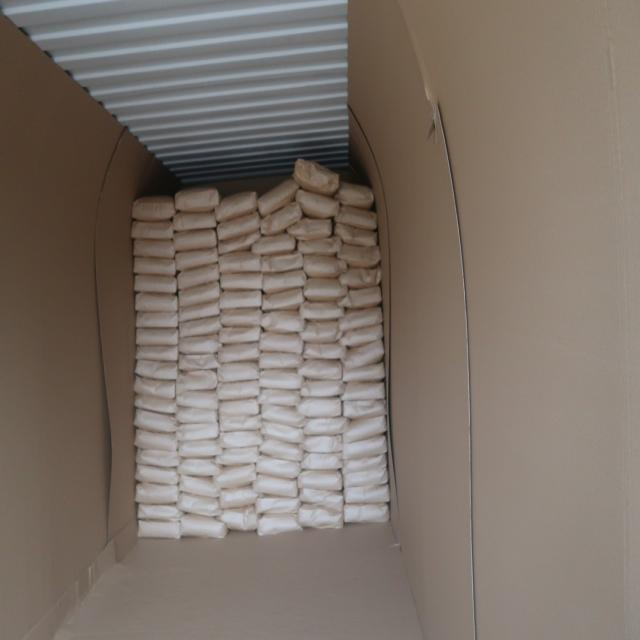gunny_bag: (294, 159, 339, 197), (258, 176, 300, 216), (260, 201, 303, 235), (341, 339, 384, 372), (215, 191, 259, 223), (342, 414, 388, 444), (296, 188, 341, 218), (217, 211, 261, 241), (340, 434, 387, 462), (338, 306, 383, 333), (180, 514, 228, 539), (175, 186, 221, 212), (178, 264, 220, 292), (132, 196, 177, 222), (298, 504, 343, 530), (336, 242, 381, 268), (339, 324, 384, 350), (302, 278, 348, 302), (302, 256, 348, 280), (178, 492, 222, 517), (134, 409, 178, 434), (218, 231, 262, 256), (334, 182, 376, 208), (218, 506, 260, 532), (180, 280, 222, 306), (259, 438, 304, 462), (298, 488, 343, 512), (215, 465, 258, 490), (256, 455, 302, 478), (254, 475, 300, 498), (338, 285, 382, 309), (262, 270, 306, 294), (344, 504, 391, 526), (262, 288, 305, 312), (335, 224, 378, 248), (338, 266, 382, 289), (288, 217, 332, 240), (344, 399, 388, 422), (258, 514, 304, 536), (252, 233, 296, 256), (176, 247, 220, 270), (335, 206, 377, 230), (262, 310, 304, 334), (259, 332, 304, 354), (261, 406, 306, 428), (342, 466, 387, 488), (342, 452, 387, 474), (298, 320, 342, 342), (298, 358, 342, 380), (136, 358, 180, 380), (260, 420, 304, 442), (174, 230, 218, 252), (298, 470, 342, 492), (256, 494, 300, 516), (342, 362, 386, 384), (136, 431, 180, 453), (218, 252, 262, 274), (218, 486, 260, 509), (136, 376, 178, 399), (340, 381, 386, 402), (177, 370, 219, 393), (304, 416, 352, 436), (299, 301, 344, 322), (180, 476, 222, 498), (136, 463, 180, 484), (298, 398, 340, 420), (136, 483, 180, 504), (262, 252, 304, 274), (180, 316, 222, 338), (178, 302, 220, 324), (178, 457, 224, 477), (345, 484, 391, 504), (178, 440, 224, 460), (217, 360, 260, 381), (298, 236, 343, 256), (216, 447, 261, 467), (259, 370, 304, 390), (218, 430, 263, 450), (172, 210, 216, 230), (218, 288, 262, 308), (138, 520, 182, 540), (136, 294, 180, 314), (132, 221, 176, 241), (300, 378, 344, 398), (132, 256, 176, 276), (220, 272, 264, 292), (301, 435, 344, 455), (134, 239, 177, 259), (177, 389, 220, 409), (179, 335, 222, 355), (301, 342, 346, 361), (134, 274, 176, 294), (218, 343, 260, 363), (136, 394, 178, 414), (218, 380, 260, 400), (220, 308, 264, 327), (138, 504, 184, 522), (177, 422, 220, 441), (137, 449, 182, 467), (136, 311, 180, 329), (136, 329, 180, 347), (258, 388, 302, 406), (220, 414, 264, 432), (301, 452, 344, 470), (258, 352, 303, 369), (178, 352, 220, 370), (218, 326, 260, 344), (218, 398, 260, 416), (177, 408, 220, 424), (137, 346, 180, 362)
